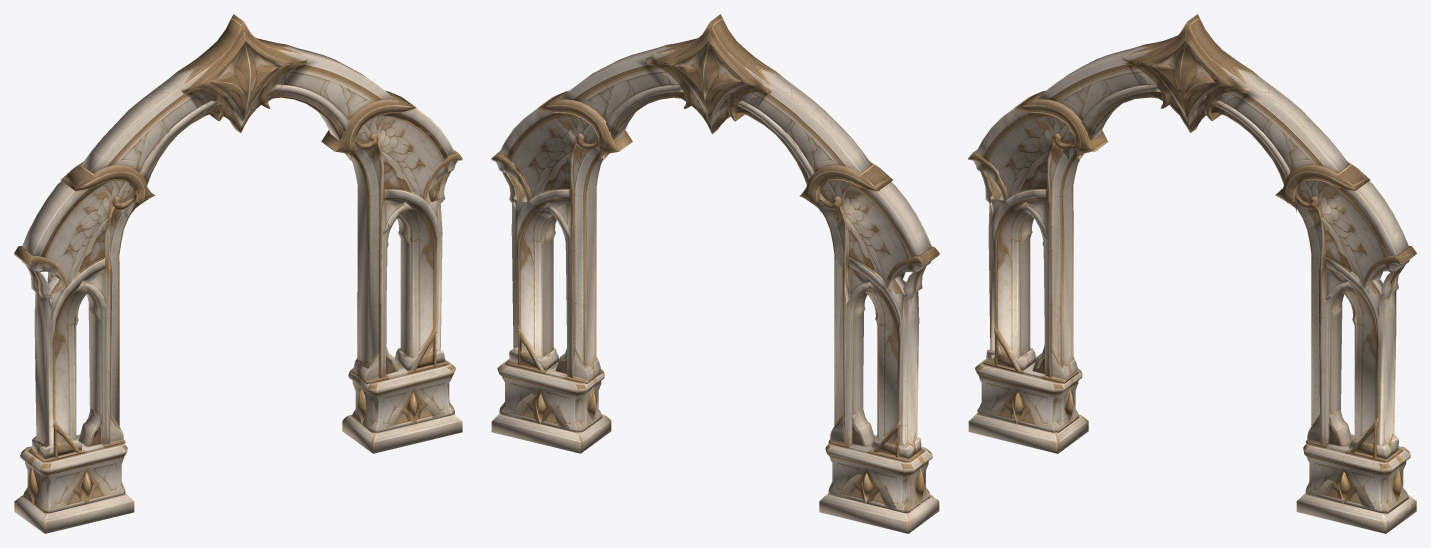
File: arena-crystal-arch.glb
The picture shows the model from 3 angles, left to right: view 1: azimuth 30°, elevation 25°; view 2: azimuth 150°, elevation 25°; view 3: azimuth 330°, elevation 25°; orthographic projection.
Size of the model in its own units: 0.9497 by 0.9512 by 0.1167.
1 material, 1 textured.
